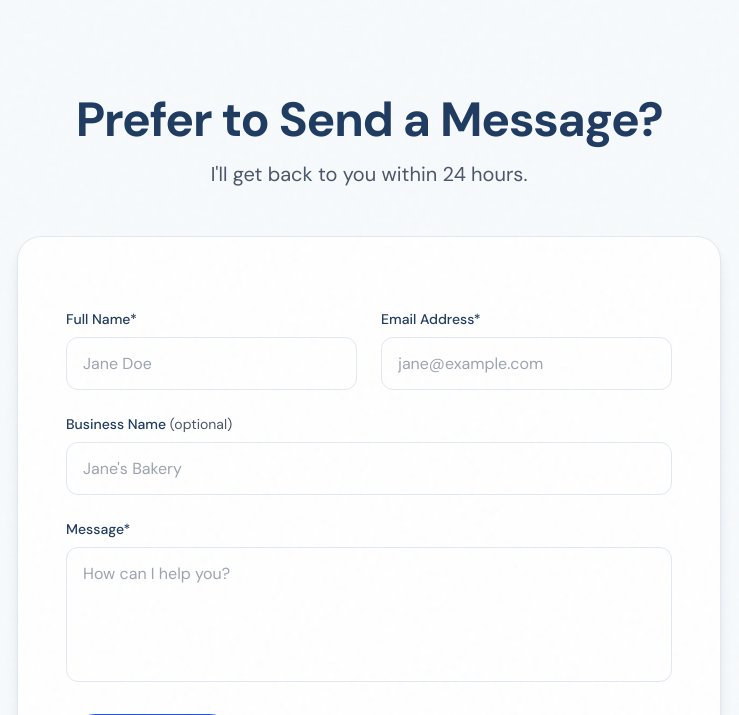
Test case: ContactForm Component › shows error state when submission fails
The image size is (739, 715).
Type "Test Name" into the field labelled "Full Name*" at (212,364), box top-left (66, 337), bottom-right (357, 390)
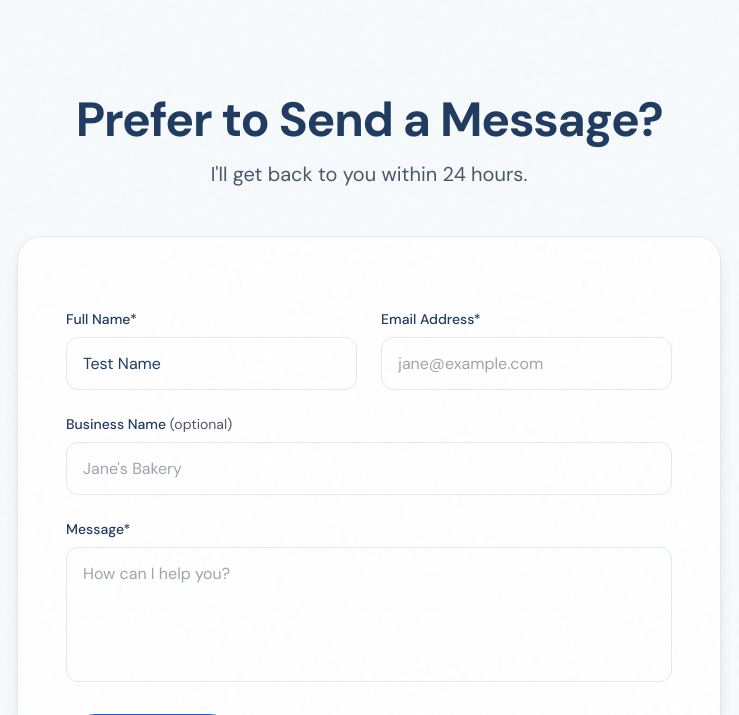
Type "test@example.com" into the field labelled "Email Address*" at (526,364), box top-left (381, 337), bottom-right (672, 390)
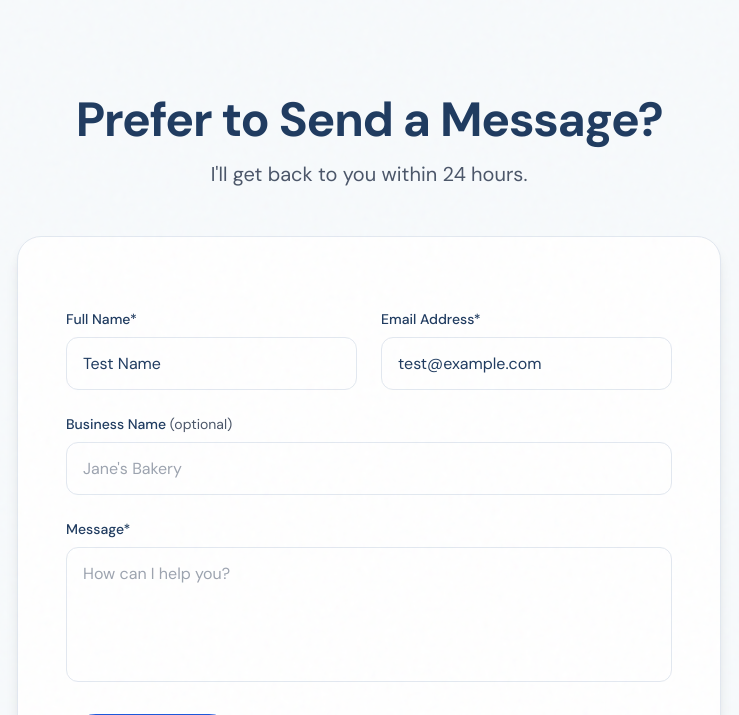
Type "Test message" into the text box labelled "Message*" at (369,615), box top-left (66, 547), bottom-right (672, 682)
(page scrolled)
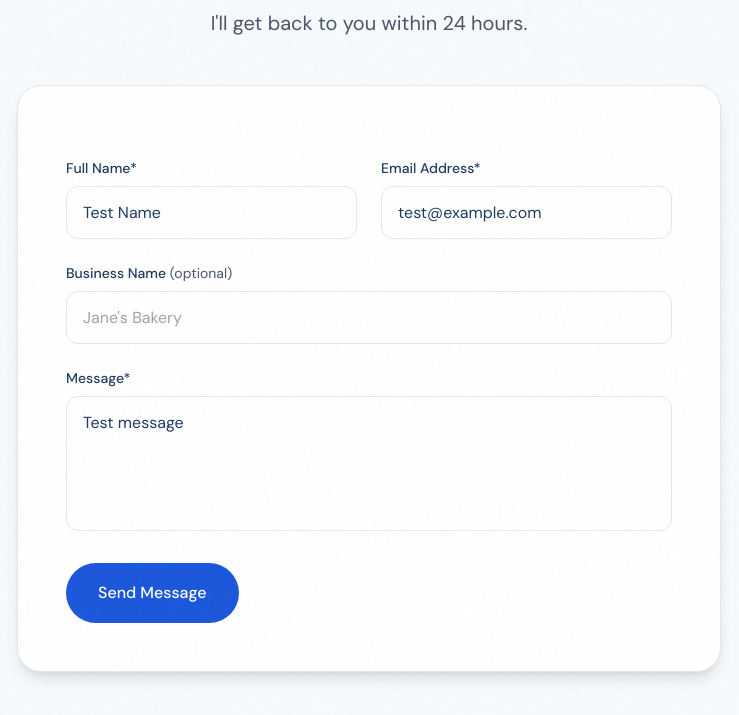
Click the button "Send Message" at (152,593), box top-left (66, 563), bottom-right (239, 622)
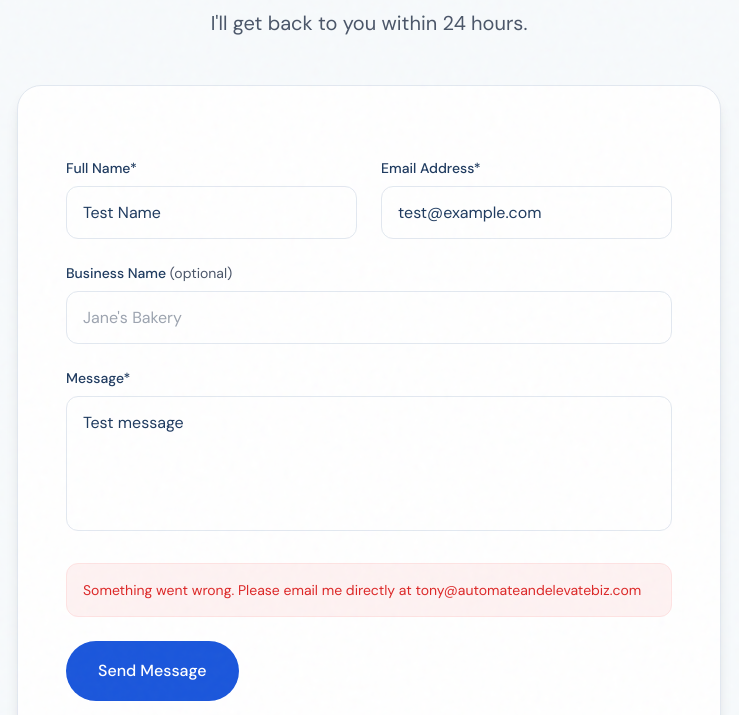
Check: the text with test id "error-message" is shown, box top-left (66, 563), bottom-right (672, 617)
Check: the text "Something went wrong" is shown, box top-left (83, 581), bottom-right (641, 599)
